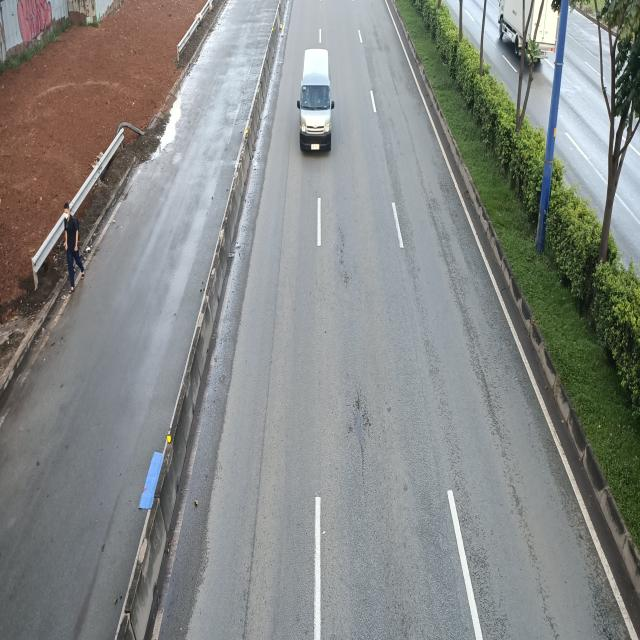van: (295, 47, 334, 152)
